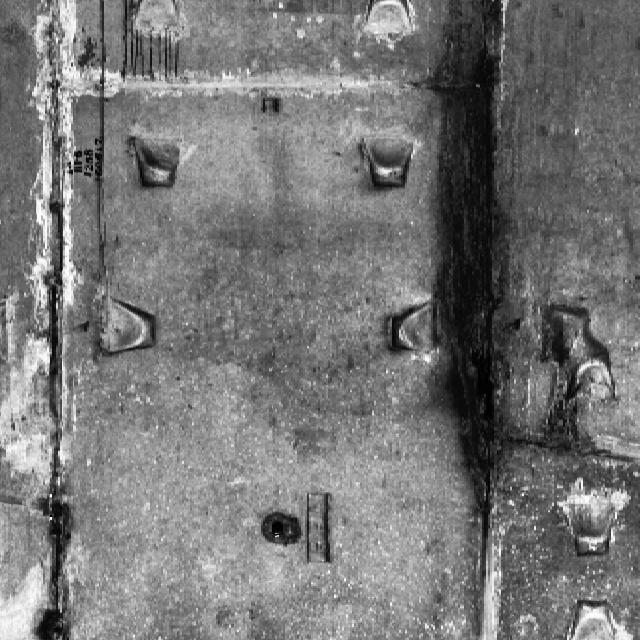leakage: (413, 3, 537, 639), (1, 0, 91, 635)
